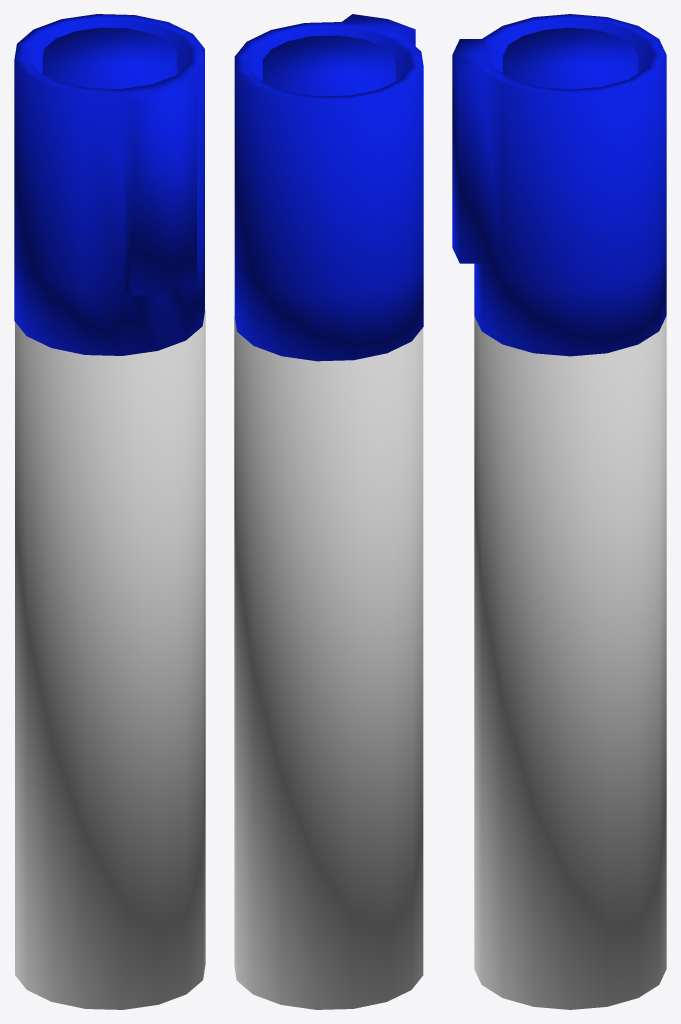
Rendered from whiteboard_markers.fbx.
3 renders of one model, left to right at view 1: azimuth 30°, elevation 25°; view 2: azimuth 150°, elevation 25°; view 3: azimuth 270°, elevation 25°, orthographic.
Visible parts, largest first — view 1: Cylinder.001, Cylinder.002; view 2: Cylinder.001, Cylinder.002; view 3: Cylinder.001, Cylinder.002.
Part boxes in pixels (x1=…): Cylinder.001: x1=15, y1=310, x2=205, y2=1009; Cylinder.002: x1=14, y1=14, x2=204, y2=355; Cylinder.001: x1=234, y1=316, x2=423, y2=1009; Cylinder.002: x1=234, y1=14, x2=423, y2=361; Cylinder.001: x1=474, y1=316, x2=666, y2=1009; Cylinder.002: x1=452, y1=14, x2=666, y2=356.
Bounding box in the file's own units: 8.02 × 42.02 × 8.91.
